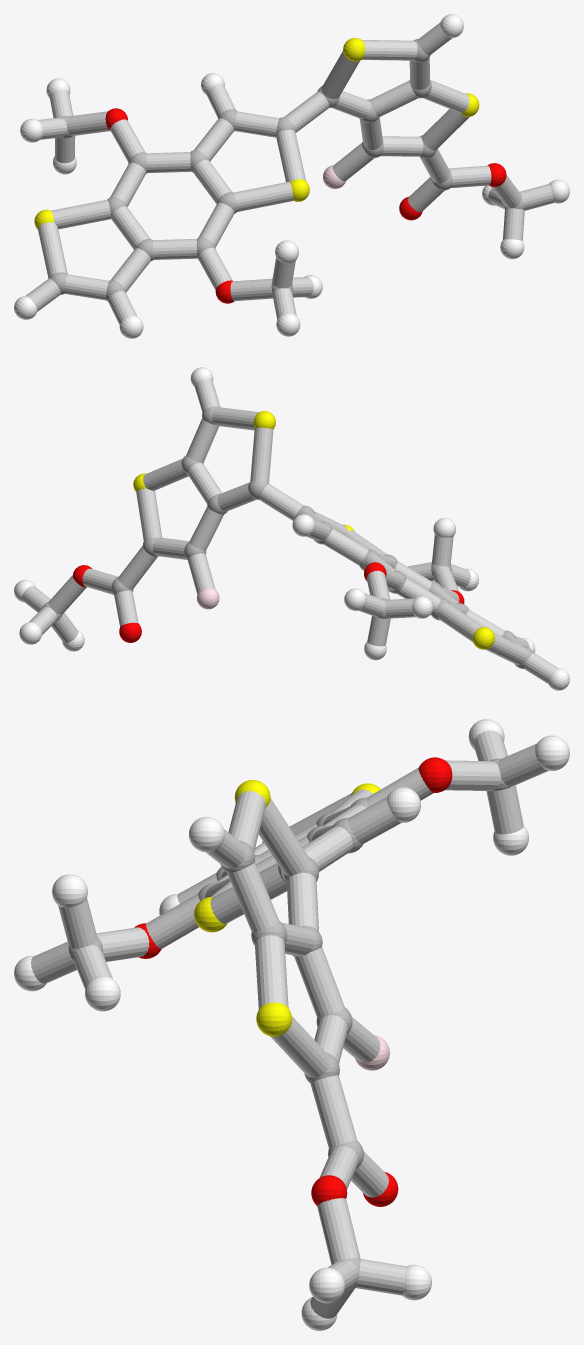
Rendered from color.glb.
The picture shows the model from 3 angles, top to bottom: view 1: azimuth 30°, elevation 25°; view 2: azimuth 150°, elevation 25°; view 3: azimuth 270°, elevation 25°; orthographic projection. The views are drawn at different scales.
Visible parts, largest first — view 1: grp15205, grp8689, grp1, grp7241, grp13395; view 2: grp15205, grp8689, grp1, grp7241, grp13395; view 3: grp15205, grp8689, grp1, grp13395, grp7241.
Boxes of the visible parts, x1,y1,x2,y2 form: grp15205: [25, 23, 554, 324]; grp8689: [14, 14, 569, 338]; grp1: [48, 39, 524, 301]; grp7241: [34, 38, 479, 229]; grp13395: [105, 108, 506, 303]; grp15205: [22, 380, 557, 683]; grp8689: [14, 367, 569, 690]; grp1: [42, 406, 533, 668]; grp7241: [133, 411, 494, 649]; grp13395: [73, 562, 464, 642]; grp15205: [31, 730, 548, 1318]; grp8689: [14, 719, 569, 1330]; grp1: [68, 758, 510, 1289]; grp13395: [134, 757, 452, 1206]; grp7241: [194, 780, 380, 1036].
Bounding box in the file's own units: 16.37 × 8.1 × 9.29.
